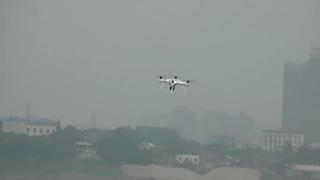UAV: (158, 75, 191, 95)
